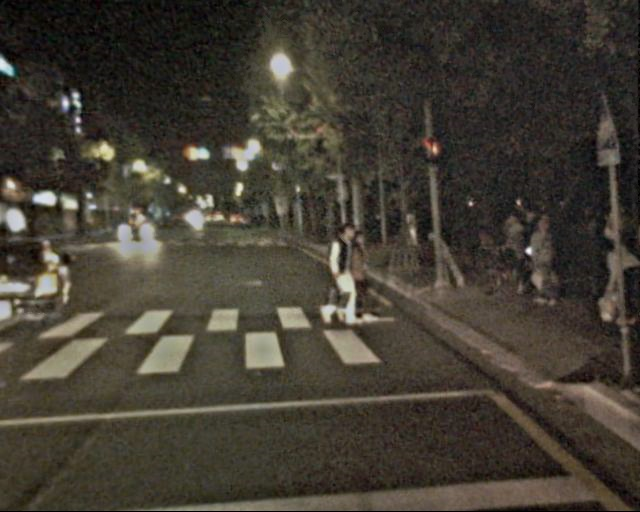person: (506, 209, 561, 295), (319, 220, 363, 327), (596, 231, 637, 330), (581, 208, 620, 303), (525, 219, 563, 311), (340, 230, 376, 319)
